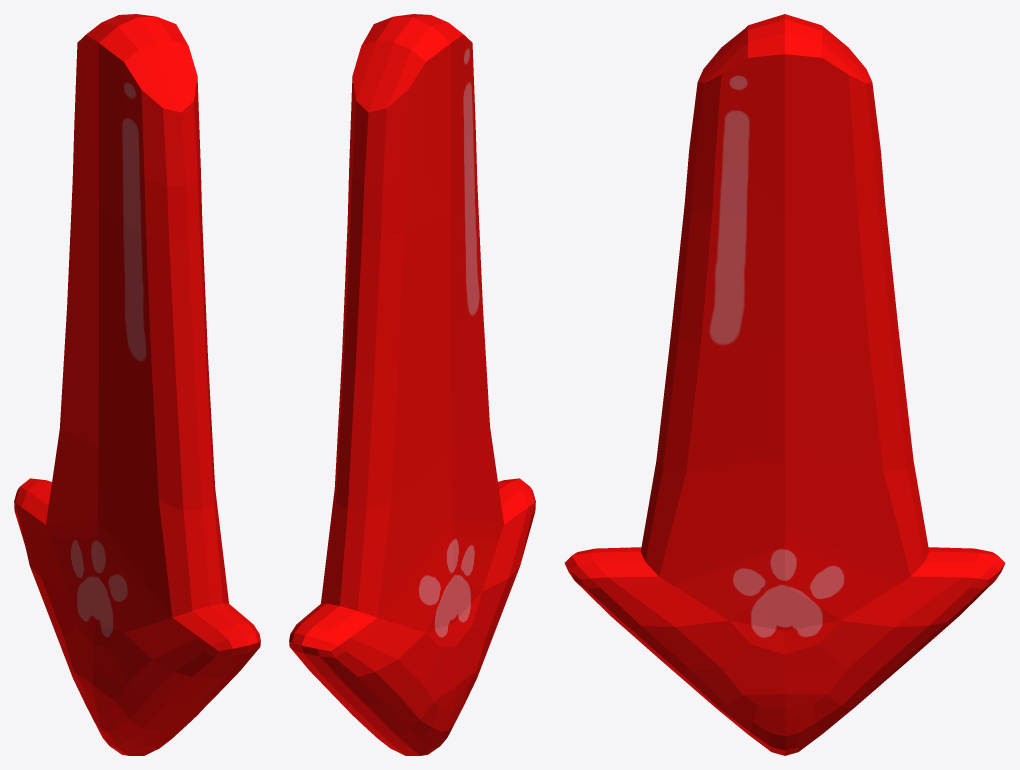
The model's file is point arrow.fbx.
3 views of the same model, side by side, from view 1: azimuth 30°, elevation 25°; view 2: azimuth 150°, elevation 25°; view 3: azimuth 270°, elevation 25° (orthographic).
Visible parts, largest first — view 1: Plane; view 2: Plane; view 3: Plane.
Boxes of the visible parts, left/top/right/bottom form: Plane: left=14, top=14, right=260, bottom=755; Plane: left=289, top=14, right=535, bottom=755; Plane: left=564, top=14, right=1005, bottom=755.
Bounding box in the file's own units: 17.5 × 137 × 74.76.
